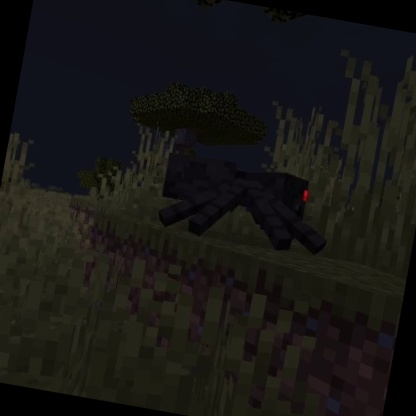spider: (149, 146, 341, 262)
